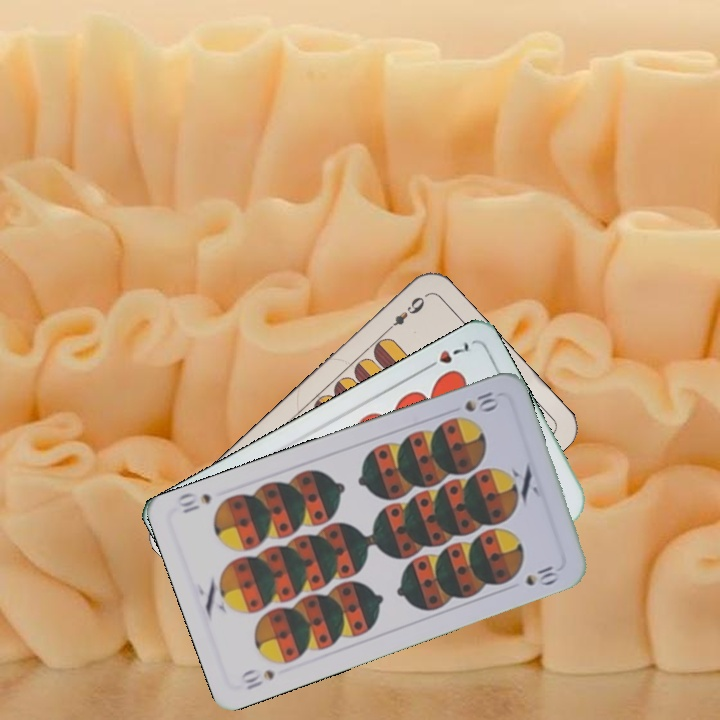E9: (381, 292, 428, 335)
H7: (420, 338, 472, 374)
S10: (237, 664, 278, 693), (460, 387, 501, 415)
